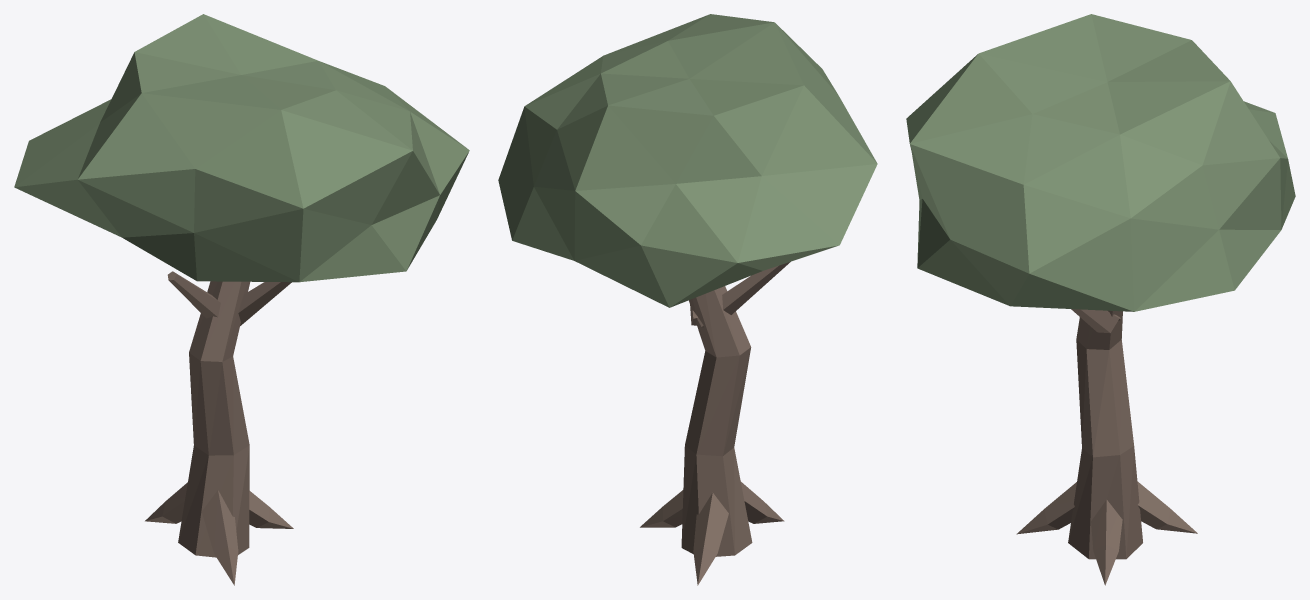
The model's file is Tree_Leafy_A.glb.
3 renders of one model, left to right at view 1: azimuth 30°, elevation 25°; view 2: azimuth 150°, elevation 25°; view 3: azimuth 270°, elevation 25°, orthographic. The views are drawn at different scales.
Parts seen in each view (by area): view 1: Foliage, Trunk; view 2: Foliage, Trunk; view 3: Foliage, Trunk.
Boxes of the visible parts, x1,y1,x2,y2 form: Foliage: (14, 14, 469, 282); Trunk: (145, 271, 293, 585); Foliage: (498, 14, 877, 307); Trunk: (640, 261, 790, 585); Foliage: (906, 14, 1295, 311); Trunk: (1016, 309, 1197, 585).
Size of the model in its own units: 14.74 by 17.9 by 12.76.
